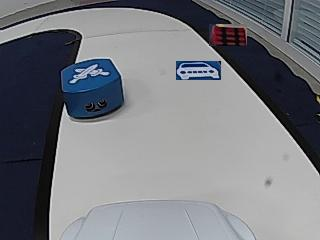spy: (70, 64, 108, 82)
